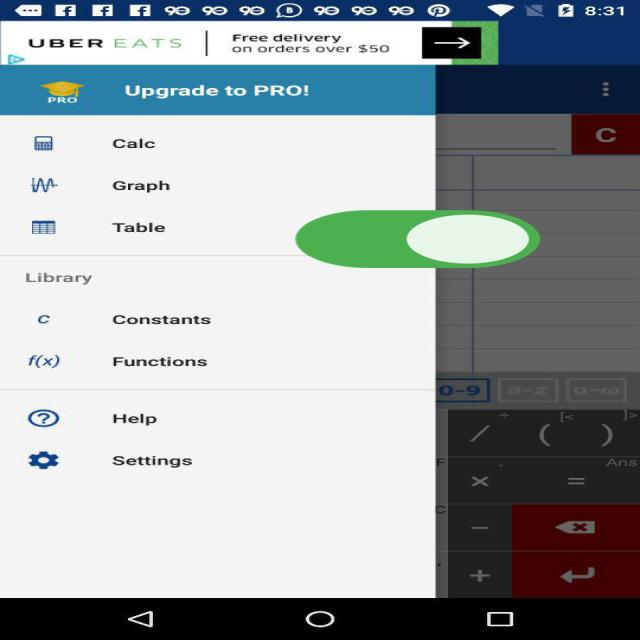social proof: (285, 188, 551, 295)
